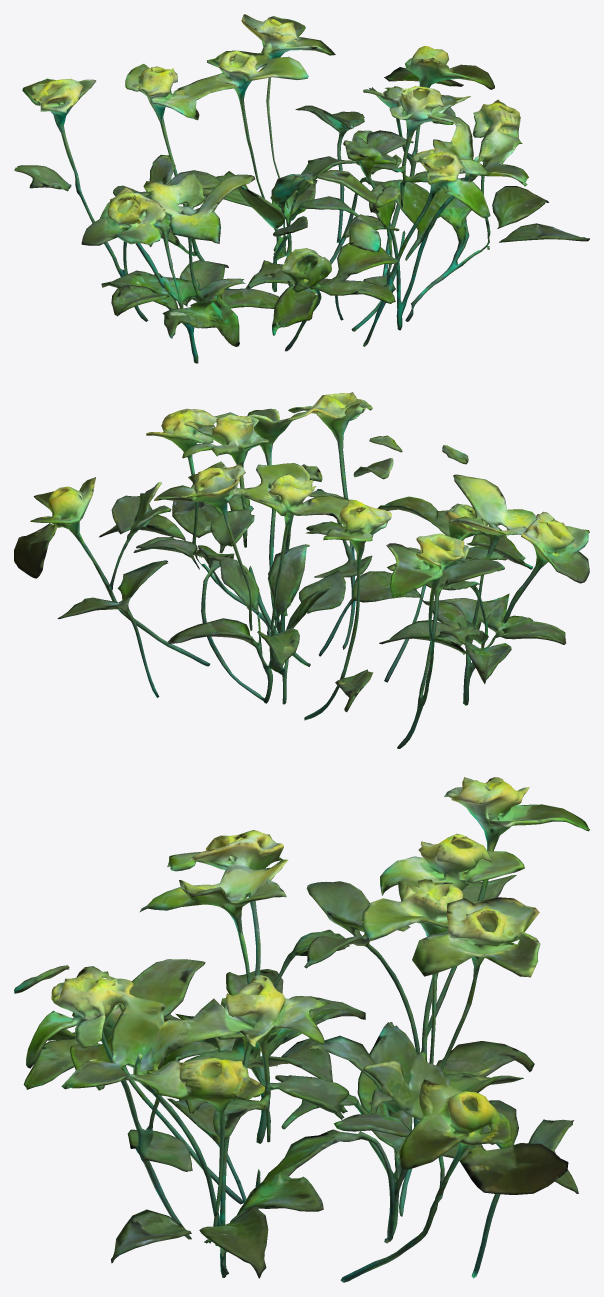
Rendered from plant.glb.
3 views of the same model, one above another, from view 1: azimuth 30°, elevation 25°; view 2: azimuth 150°, elevation 25°; view 3: azimuth 270°, elevation 25° (orthographic). The views are drawn at different scales.
Parts seen in each view (by area): view 1: Object_4; view 2: Object_4; view 3: Object_4.
Part boxes in pixels (x1,y1,x2,y2): Object_4: (14,14,589,363); Object_4: (14,392,589,748); Object_4: (14,777,589,1282).
Bounding box in the file's own units: 1.98 × 1.01 × 1.52.
1 material, 1 textured.
